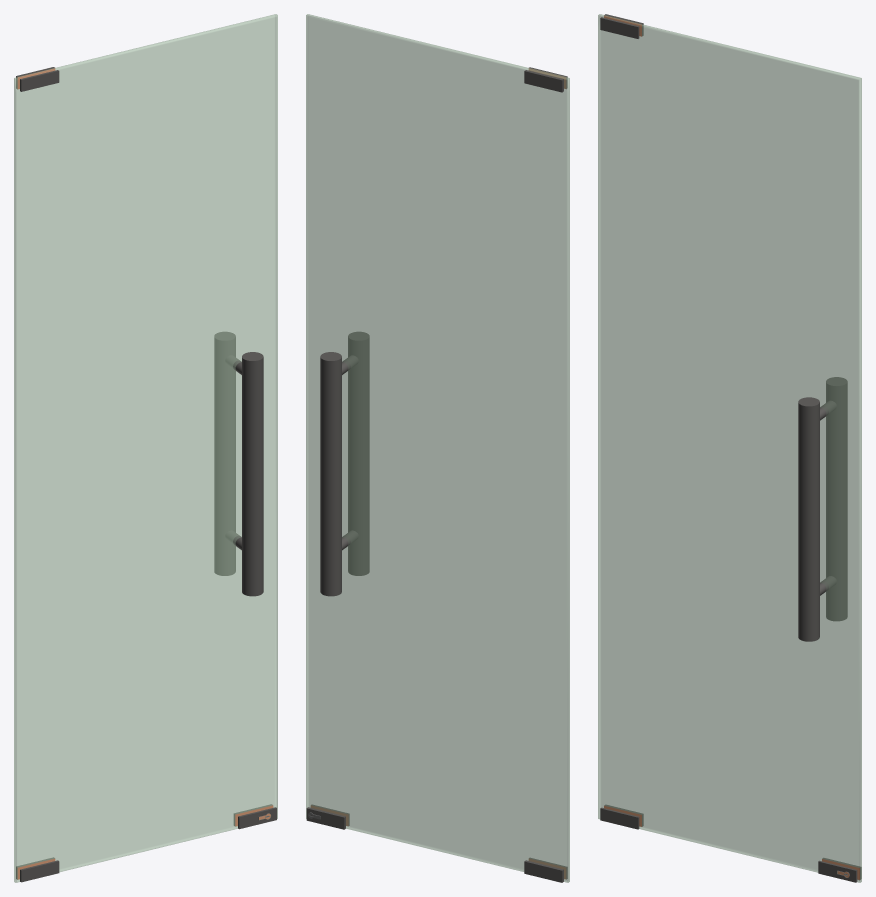
Rendered from entrance_door.fbx.
3 renders of one model, left to right at view 1: azimuth 30°, elevation 25°; view 2: azimuth 150°, elevation 25°; view 3: azimuth 330°, elevation 25°, orthographic.
Parts seen in each view (by area): view 1: Layer0_001, Group_005, Group_008, Group_001, Group_004, Group_002; view 2: Layer0_001, Group_008, Group_005, Group_001, Group_004, Group_002; view 3: Layer0_001, Group_005, Group_008, Group_001, Group_002, Group_004.
Part boxes in pixels (<box>): Layer0_001: <box>14,14,277,882</box>; Group_005: <box>242,352,263,596</box>; Group_008: <box>214,332,235,575</box>; Group_001: <box>16,67,59,91</box>; Group_004: <box>16,857,59,882</box>; Group_002: <box>234,804,276,829</box>; Layer0_001: <box>306,14,569,882</box>; Group_008: <box>320,352,341,596</box>; Group_005: <box>348,332,369,575</box>; Group_001: <box>524,67,567,92</box>; Group_004: <box>524,858,567,882</box>; Group_002: <box>306,804,349,829</box>; Layer0_001: <box>598,14,861,882</box>; Group_005: <box>798,397,819,641</box>; Group_008: <box>826,377,847,620</box>; Group_001: <box>600,14,643,38</box>; Group_002: <box>818,858,861,882</box>; Group_004: <box>600,805,643,829</box>.
Size of the model in its own units: 28 by 82 by 7.13.
